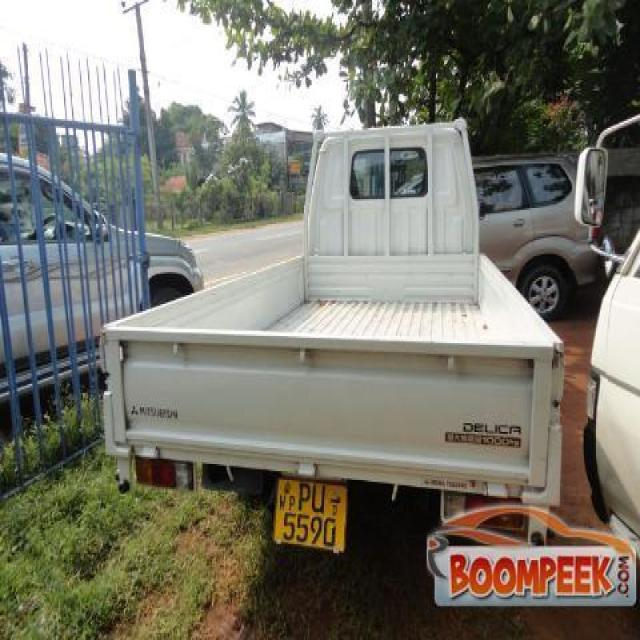license-plate: (276, 475, 345, 549)
